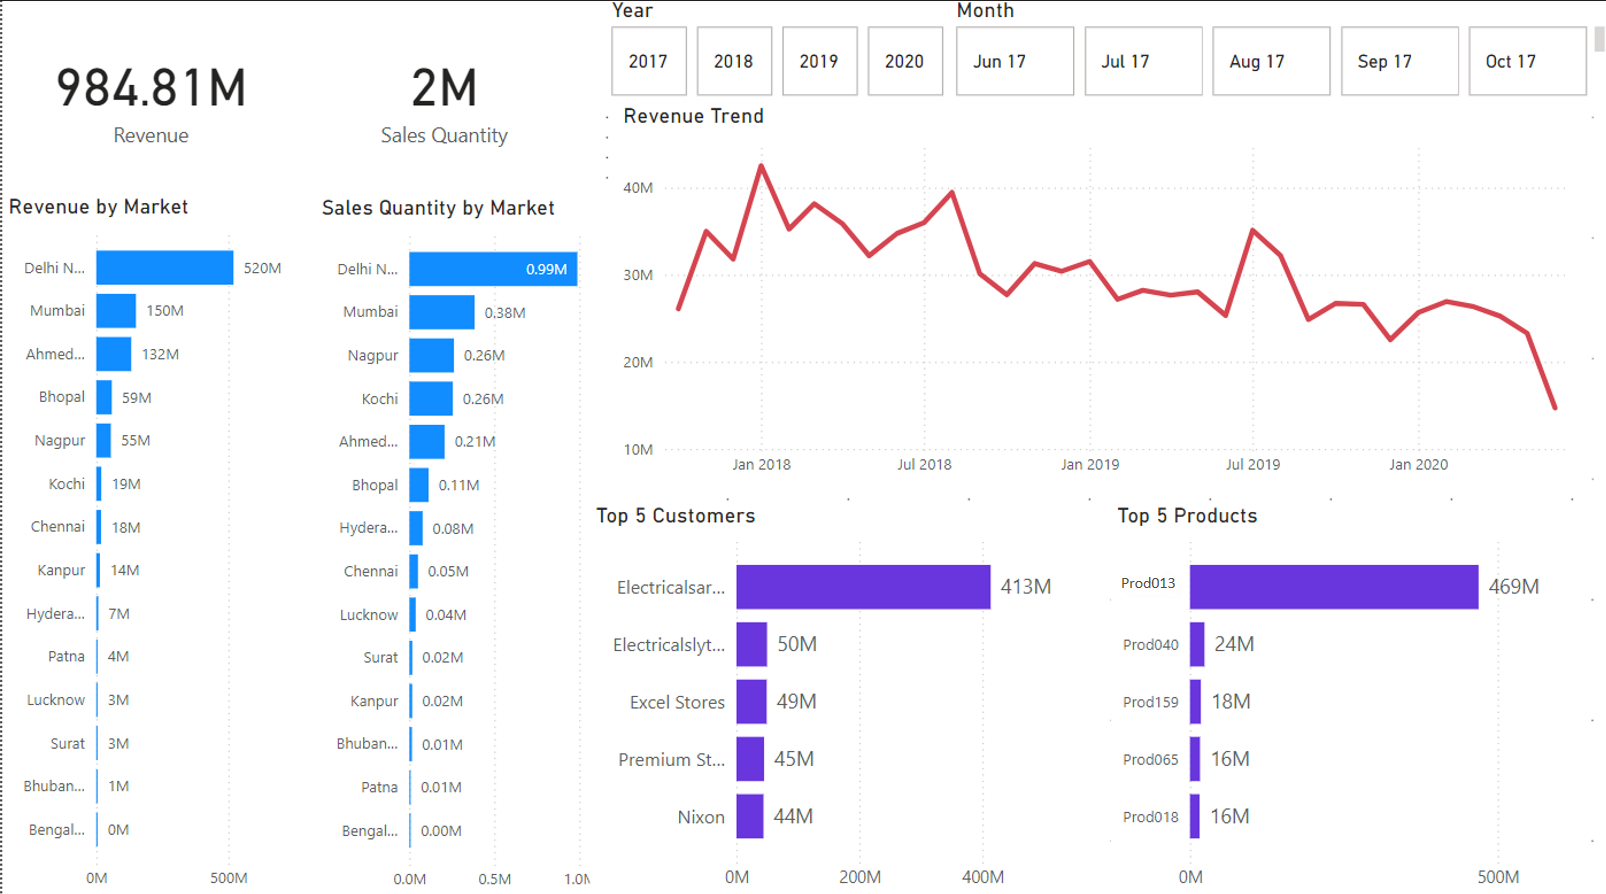

This screenshot's page, from the dashboard's own definition file:
{"tool":"powerbi","page":{"name":"Page 1","canvas":[1280,720],"ordinal":0},"visuals":[{"type":"card","fields":{"Values":["BaseMeasures.Revenue"]},"box":[0,0,236.9,157.1],"z":0},{"type":"card","fields":{"Values":["BaseMeasures.Sales Qty"]},"box":[236.9,0,230.6,157.1],"z":1000},{"type":"clusteredBarChart","title":"Revenue by Market","fields":{"Y":["BaseMeasures.Revenue"],"Category":["sales markets.markets_name"]},"box":[0,157.1,249.4,563.5],"z":2000},{"type":"clusteredBarChart","title":"Sales Quantity by Market","fields":{"Y":["BaseMeasures.Sales Qty"],"Category":["sales markets.markets_name"]},"box":[249.6,157.4,249.6,563.2],"z":3000},{"type":"advancedSlicerVisual","title":"Year","fields":{"Values":["sales date.year"]},"box":[480,0,274.3,84.8],"z":4000},{"type":"advancedSlicerVisual","title":"Month","fields":{"Values":["sales date.cy_date"]},"box":[754.3,0,526.1,84.8],"z":5000},{"type":"clusteredBarChart","title":"Top 5 Customers","fields":{"Category":["sales customers.custmer_name"],"Y":["BaseMeasures.Revenue"]},"box":[467.2,401.9,414.7,318.7],"z":6000},{"type":"clusteredBarChart","title":"Top 5 Products","fields":{"Category":["sales products.product_code"],"Y":["BaseMeasures.Revenue"]},"box":[881.9,401.9,382.7,318.7],"z":7000},{"type":"lineChart","title":"Revenue Trend","fields":{"Y":["BaseMeasures.Revenue"],"Category":["sales date.cy_date.Variation.Date Hierarchy.Year","sales date.cy_date.Variation.Date Hierarchy.Month"]},"box":[489,84.5,775.7,305.9],"z":7001}]}

Visuals, with their boxes in screenshot pixels (x1, y1, x2, y2), scaled from the page's 1280x720 canvas onto the 1606x894 screenshot:
card - BaseMeasures.Revenue: [left=0, top=0, right=297, bottom=195]
card - BaseMeasures.Sales Qty: [left=297, top=0, right=587, bottom=195]
"Revenue by Market" clusteredBarChart: [left=0, top=195, right=313, bottom=893]
"Sales Quantity by Market" clusteredBarChart: [left=313, top=195, right=626, bottom=893]
"Year" advancedSlicerVisual: [left=602, top=0, right=946, bottom=105]
"Month" advancedSlicerVisual: [left=946, top=0, right=1605, bottom=105]
"Top 5 Customers" clusteredBarChart: [left=586, top=499, right=1107, bottom=893]
"Top 5 Products" clusteredBarChart: [left=1107, top=499, right=1587, bottom=893]
"Revenue Trend" lineChart: [left=614, top=105, right=1587, bottom=485]
